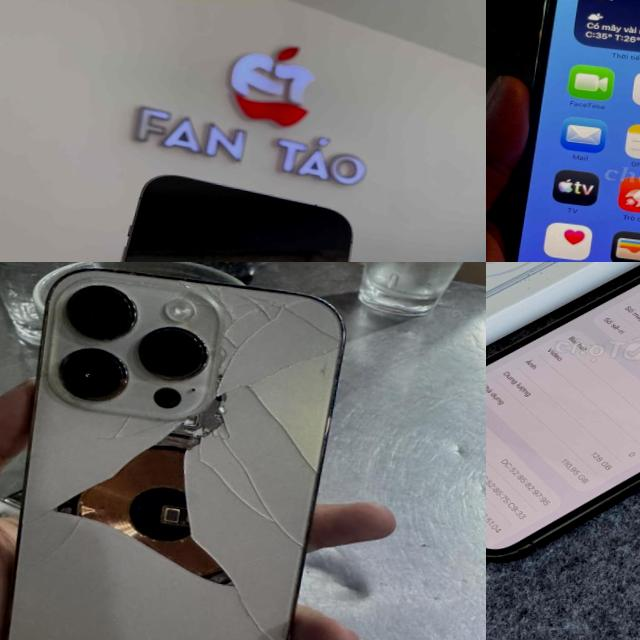physical_damage: (74, 439, 248, 588), (180, 398, 323, 549), (209, 321, 339, 411), (175, 278, 348, 330), (14, 508, 82, 576), (228, 584, 294, 640), (98, 414, 190, 449)
